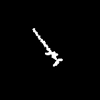double_crochet: (33, 28, 61, 65)
